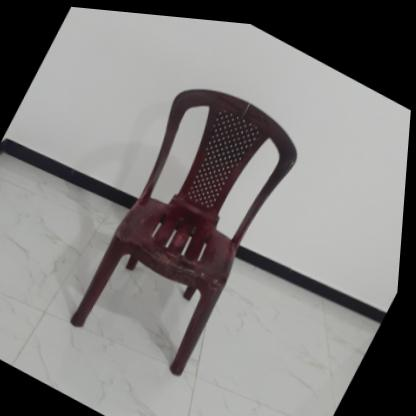Ceramic floor: (0, 139, 385, 416)
Chair: (60, 58, 316, 390)
